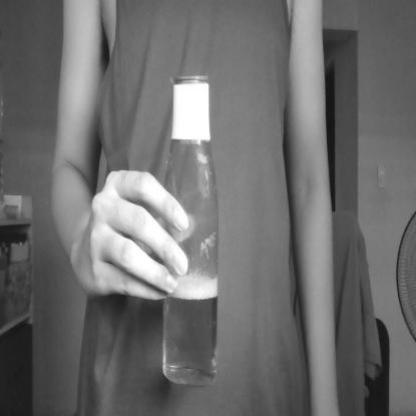Plastic Bottle: (154, 71, 225, 390)
